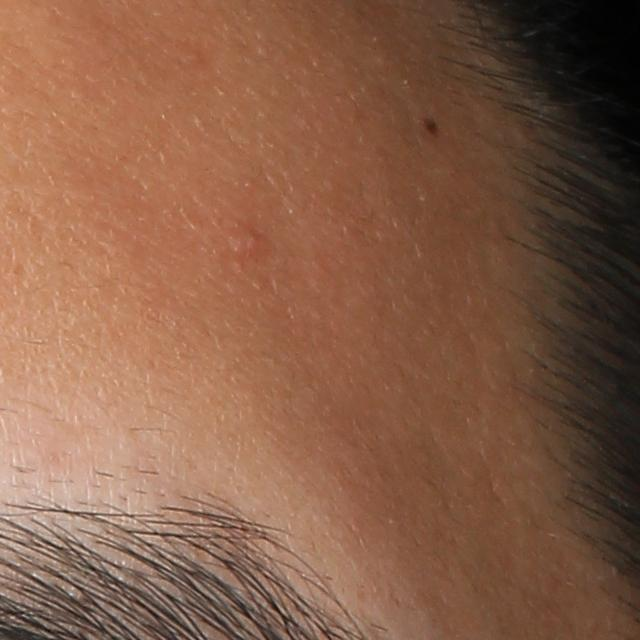nevus: (417, 115, 443, 142)
papule: (237, 226, 272, 262)
